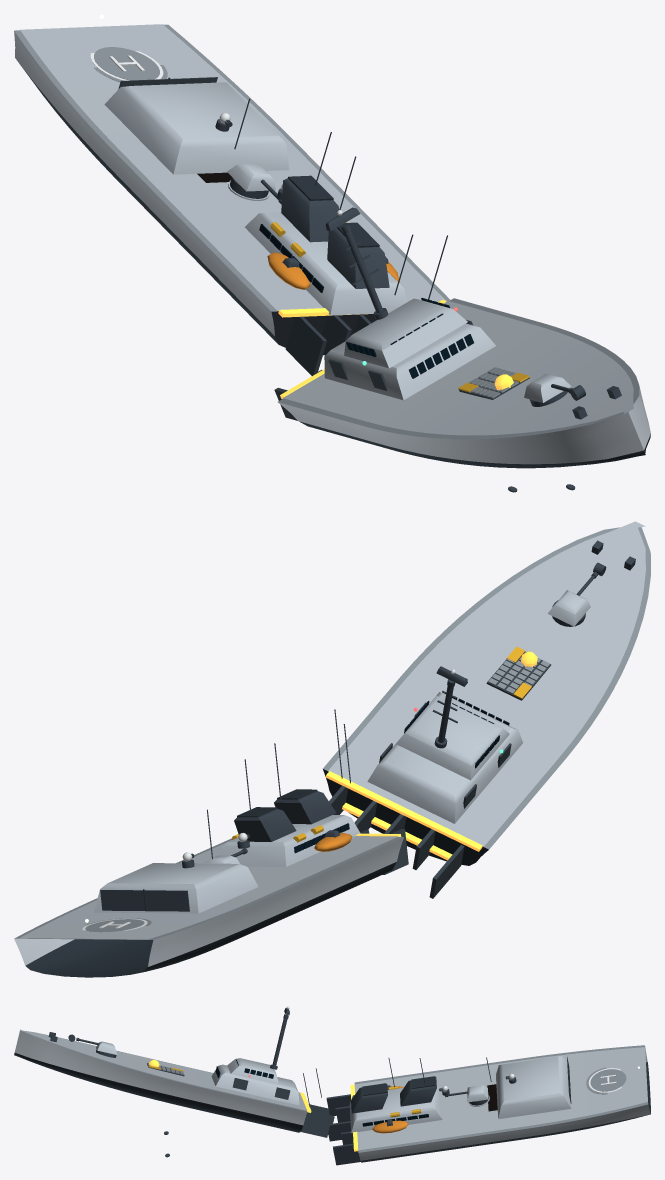
Rendered from wreck_destroyer.glb.
The picture shows the model from 3 angles, top to bottom: view 1: azimuth 30°, elevation 25°; view 2: azimuth 150°, elevation 25°; view 3: azimuth 270°, elevation 25°; orthographic projection. The views are drawn at different scales.
Parts seen in each view (by area): view 1: deck_plate_aft, deck_plate_fore, hangar, hull_fore, hull_aft, midhouse, bridge1, bridge2, deck_aft, deck_fore, ribs_aft_hi, funnel_2 (+11 smaller); view 2: deck_plate_fore, deck_plate_aft, hull_aft, bridge1, hull_under_aft, hangar, bridge2, deck_fore, midhouse, ribs_fore_lo, cap_fore_lo, hot_fore_lo (+6 smaller); view 3: deck_plate_aft, hull_fore, hangar, hull_aft, deck_plate_fore, hull_under_fore, midhouse, deck_aft, ribs_aft_hi, bridge1, hull_under_aft, ribs_fore_lo (+10 smaller).
Part boxes in pixels (x1,y1,x2,y2): deck_plate_aft: (20, 24, 445, 310); deck_plate_fore: (283, 301, 633, 435); hangar: (104, 82, 289, 174); hull_fore: (278, 386, 650, 464); hull_aft: (14, 31, 274, 335); midhouse: (245, 212, 406, 315); bridge1: (324, 323, 495, 400); bridge2: (344, 298, 467, 368); deck_aft: (14, 24, 450, 311); deck_fore: (278, 298, 639, 439); ribs_aft_hi: (285, 314, 371, 375); funnel_2: (281, 178, 339, 242); deck_plate_fore: (328, 521, 645, 846); deck_plate_aft: (20, 836, 398, 939); hull_aft: (14, 837, 403, 966); bridge1: (367, 692, 522, 823); hull_under_aft: (25, 862, 396, 977); hangar: (94, 863, 258, 913); bridge2: (396, 695, 509, 780); deck_fore: (323, 527, 650, 849); midhouse: (219, 815, 360, 866); ribs_fore_lo: (329, 785, 464, 898); cap_fore_lo: (323, 769, 488, 865); hot_fore_lo: (325, 771, 482, 860); deck_plate_aft: (354, 1047, 647, 1150); hull_fore: (14, 1030, 306, 1125); hangar: (496, 1056, 571, 1119); hull_aft: (358, 1046, 650, 1160); deck_plate_fore: (20, 1029, 306, 1110); hull_under_fore: (14, 1053, 303, 1132); midhouse: (349, 1086, 442, 1133); deck_aft: (354, 1045, 648, 1152); ribs_aft_hi: (326, 1094, 360, 1165); bridge1: (211, 1064, 299, 1105); hull_under_aft: (360, 1062, 650, 1162); ribs_fore_lo: (300, 1104, 334, 1137).
Size of the model in its own units: 4.63 by 4.4 by 20.59.
